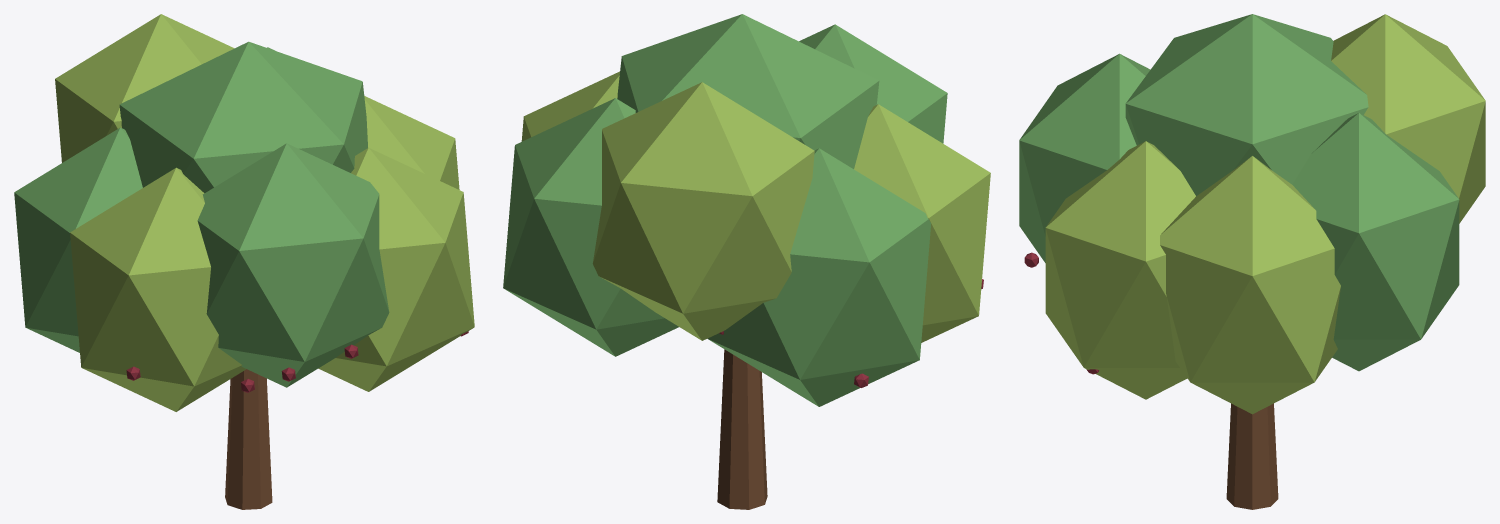
File: Capulin.fbx
3 renders of one model, left to right at view 1: azimuth 30°, elevation 25°; view 2: azimuth 150°, elevation 25°; view 3: azimuth 270°, elevation 25°, orthographic. The views are drawn at different scales.
Parts seen in each view (by area): view 1: Capulin; view 2: Capulin; view 3: Capulin.
Boxes of the visible parts, x1,y1,x2,y2 form: Capulin: (14,14,474,509); Capulin: (503,14,990,509); Capulin: (1019,14,1485,509).
Size of the model in its own units: 3.78 by 4.12 by 3.6.
